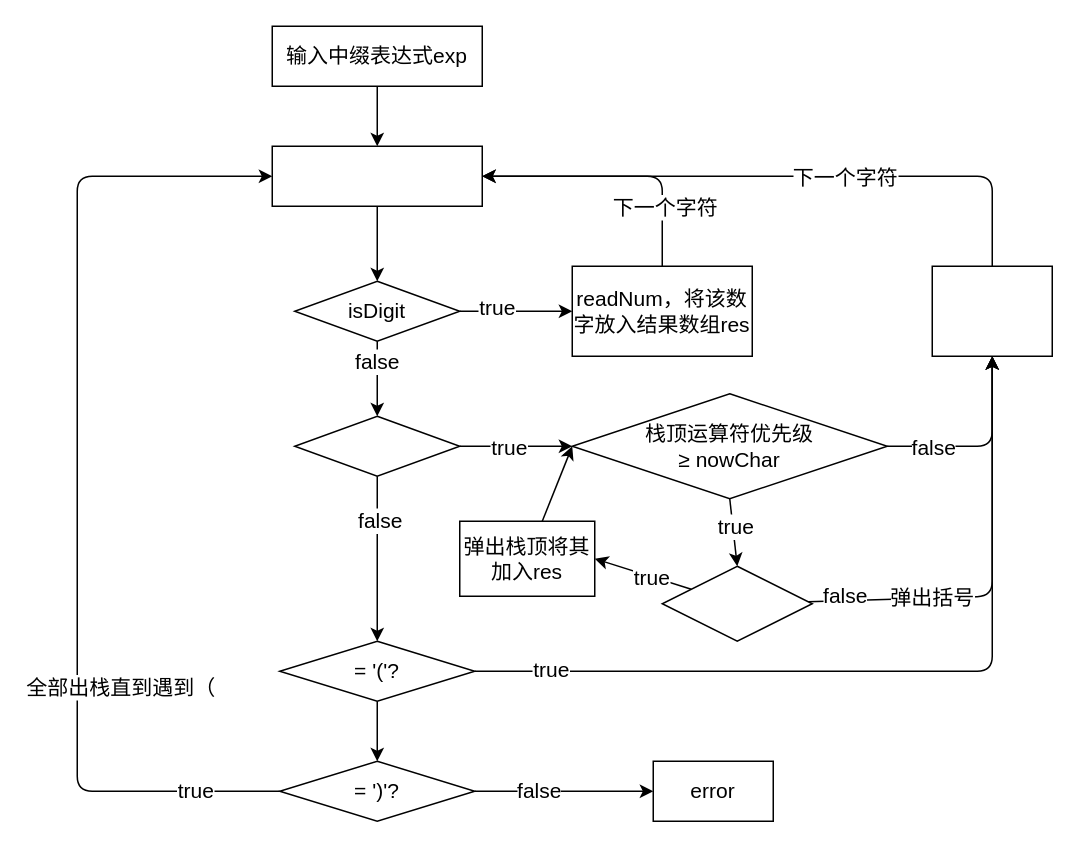
The diagram is 1079 pixels wide and 848 high, and some of its shapes have lost their labels. The box of each missing label's shape, as (x1, y1, x2, y2) in pixels:
isOperate: (293, 415, 460, 476)
为括号？: (661, 565, 812, 641)
将nowChar入栈: (931, 265, 1052, 356)
当前字符为nowChar: (271, 145, 482, 206)
